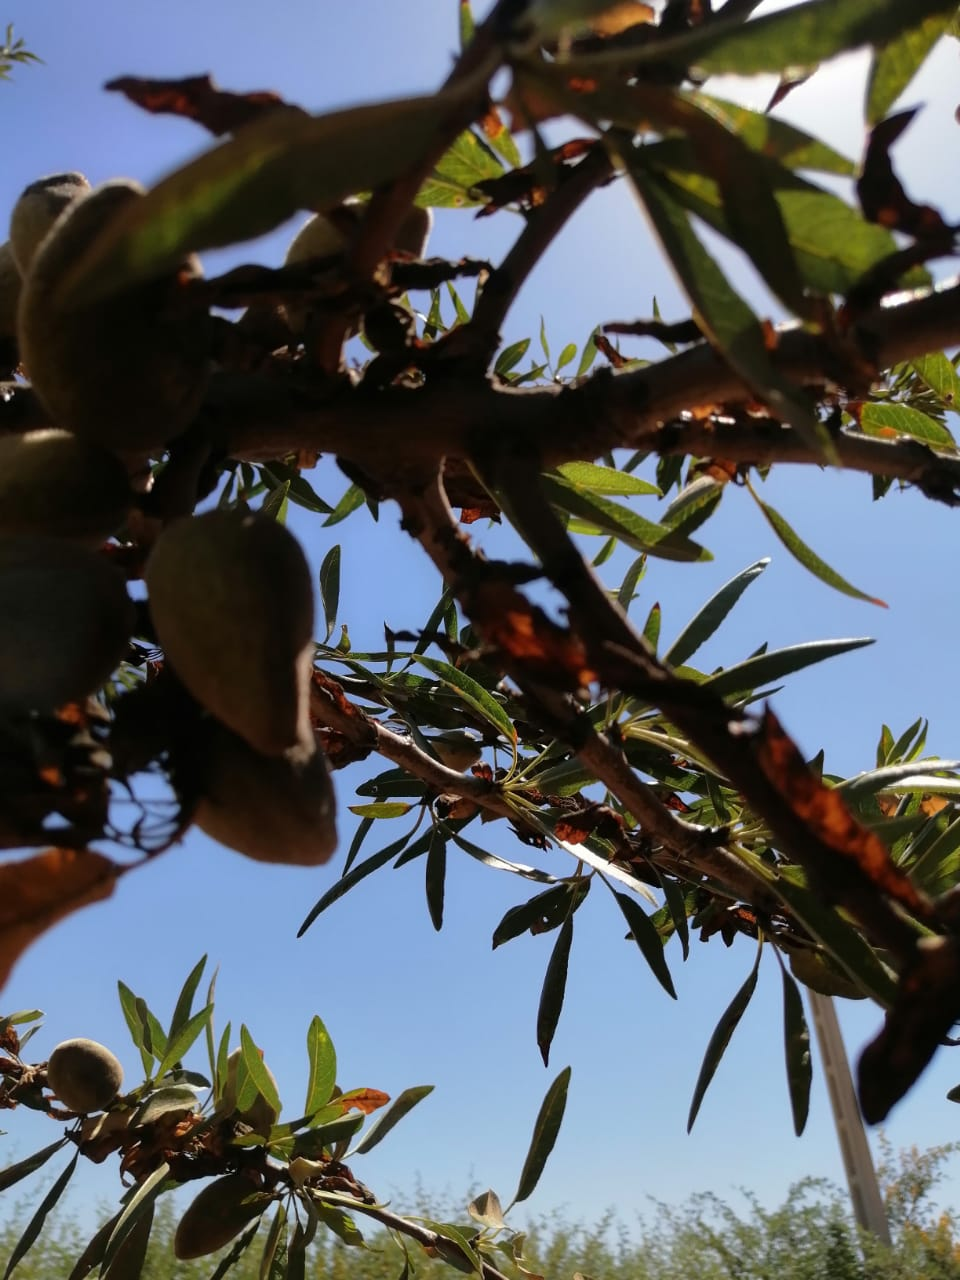scolytes: (618, 644, 929, 923), (649, 311, 899, 506)
